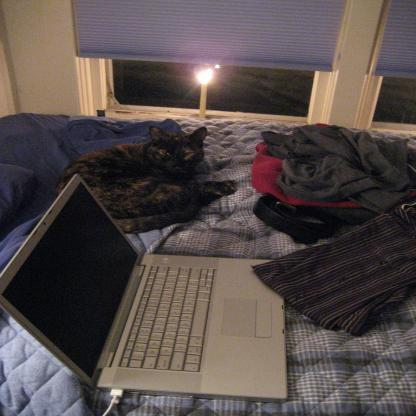board: (0, 174, 287, 403)
